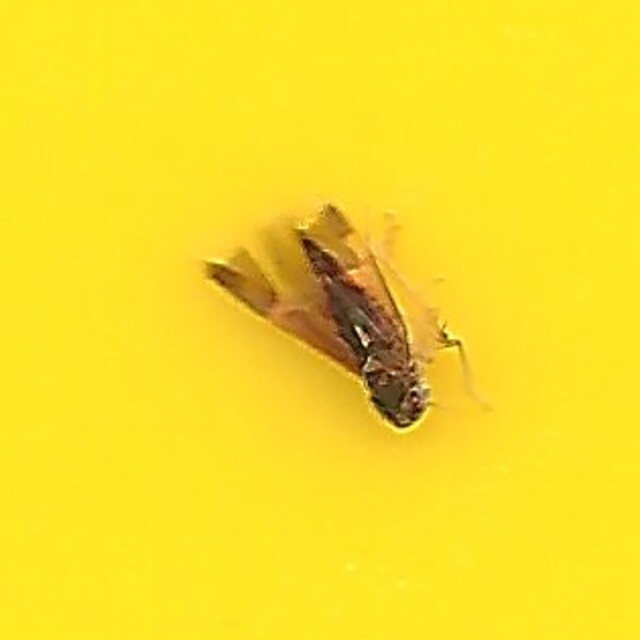Hemiptera: (203, 204, 437, 436)
